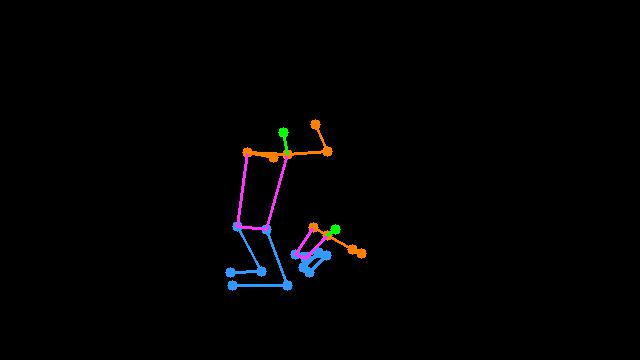normal: (290, 218, 372, 282)
